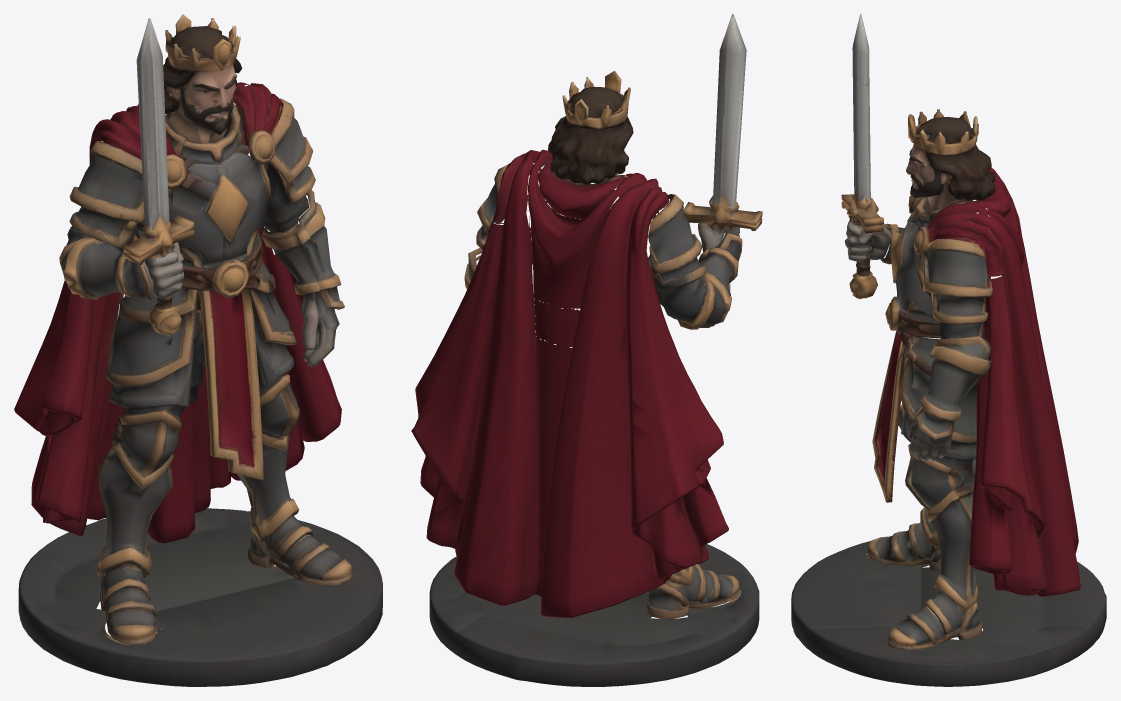
File: king-arthur-tripo-75e27ee8-segmented-retopo.glb
3 views of the same model, side by side, from view 1: azimuth 30°, elevation 25°; view 2: azimuth 150°, elevation 25°; view 3: azimuth 270°, elevation 25° (orthographic). The views are drawn at different scales.
Parts seen in each view (by area): view 1: tripo_part_1, tripo_part_0, tripo_part_2, tripo_part_6, tripo_part_4, tripo_part_3, tripo_part_12, tripo_part_5, tripo_part_8, tripo_part_7, tripo_part_9, tripo_part_10; view 2: tripo_part_0, tripo_part_1, tripo_part_5, tripo_part_12, tripo_part_11, tripo_part_9, tripo_part_4, tripo_part_10, tripo_part_6, tripo_part_8, tripo_part_13; view 3: tripo_part_1, tripo_part_0, tripo_part_3, tripo_part_8, tripo_part_2, tripo_part_5, tripo_part_12, tripo_part_7, tripo_part_6, tripo_part_4, tripo_part_11.
Boxes of the visible parts, bbox=[...] form: tripo_part_1: bbox=[18, 508, 382, 686]; tripo_part_0: bbox=[14, 82, 341, 543]; tripo_part_2: bbox=[106, 261, 296, 480]; tripo_part_6: bbox=[135, 103, 270, 297]; tripo_part_4: bbox=[97, 405, 184, 644]; tripo_part_3: bbox=[227, 373, 352, 585]; tripo_part_12: bbox=[123, 18, 194, 335]; tripo_part_5: bbox=[163, 14, 242, 142]; tripo_part_8: bbox=[233, 83, 315, 232]; tripo_part_7: bbox=[261, 190, 344, 366]; tripo_part_9: bbox=[66, 141, 144, 248]; tripo_part_10: bbox=[59, 236, 153, 301]; tripo_part_0: bbox=[411, 158, 728, 617]; tripo_part_1: bbox=[429, 544, 759, 686]; tripo_part_5: bbox=[548, 70, 633, 185]; tripo_part_12: bbox=[683, 14, 762, 291]; tripo_part_11: bbox=[528, 169, 618, 337]; tripo_part_9: bbox=[648, 194, 706, 321]; tripo_part_4: bbox=[647, 564, 739, 618]; tripo_part_10: bbox=[677, 233, 742, 329]; tripo_part_6: bbox=[538, 161, 665, 301]; tripo_part_8: bbox=[476, 149, 552, 264]; tripo_part_13: bbox=[534, 298, 579, 349]; tripo_part_1: bbox=[791, 541, 1106, 686]; tripo_part_0: bbox=[969, 167, 1080, 596]; tripo_part_3: bbox=[887, 444, 981, 649]; tripo_part_8: bbox=[914, 203, 1003, 339]; tripo_part_2: bbox=[872, 331, 979, 502]; tripo_part_5: bbox=[906, 109, 995, 210]; tripo_part_12: bbox=[841, 14, 890, 299]; tripo_part_7: bbox=[908, 335, 992, 461]; tripo_part_6: bbox=[885, 179, 1011, 338]; tripo_part_4: bbox=[867, 400, 975, 571]; tripo_part_11: bbox=[985, 176, 1024, 266].
Bounding box in the file's own units: 0.5075 × 0.9791 × 0.4966.
15 materials, 15 textured.
